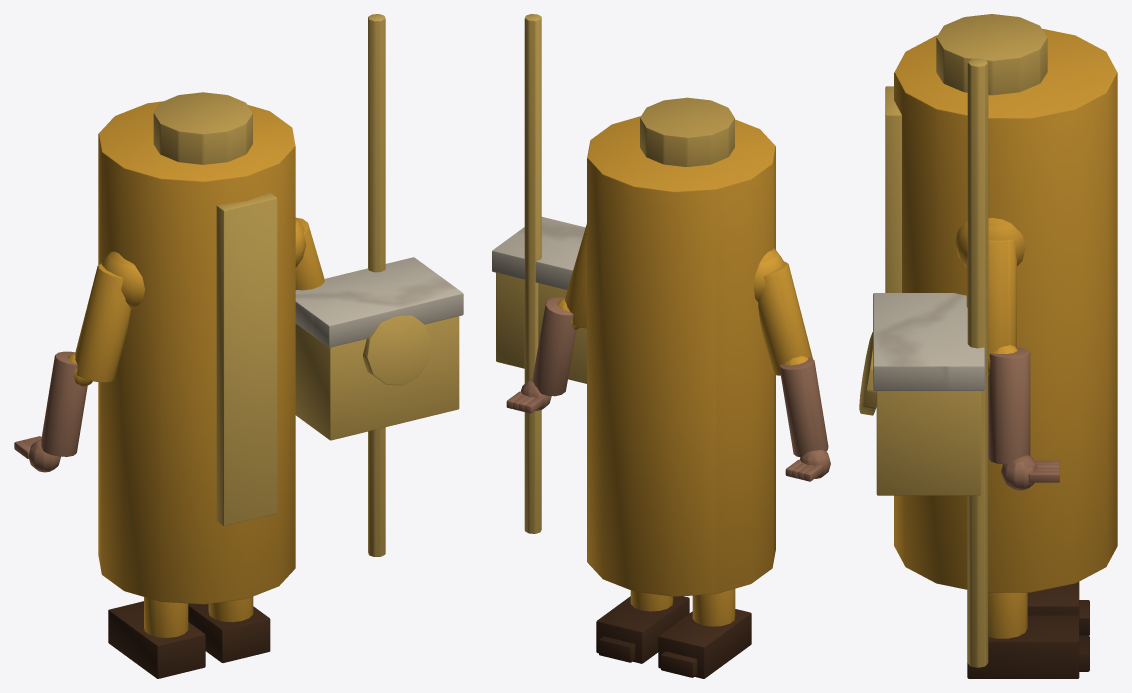
The model's file is unit_church_reliquary.fbx.
3 renders of one model, left to right at view 1: azimuth 30°, elevation 25°; view 2: azimuth 150°, elevation 25°; view 3: azimuth 270°, elevation 25°, orthographic. The views are drawn at different scales.
Visible parts, largest first — view 1: unit_church_reliquary; view 2: unit_church_reliquary; view 3: unit_church_reliquary.
Boxes of the visible parts, bbox=[...] form: unit_church_reliquary: bbox=[14, 14, 463, 678]; unit_church_reliquary: bbox=[492, 14, 830, 678]; unit_church_reliquary: bbox=[859, 14, 1117, 678].
Size of the model in its own units: 1.36 by 2.14 by 0.7397.
